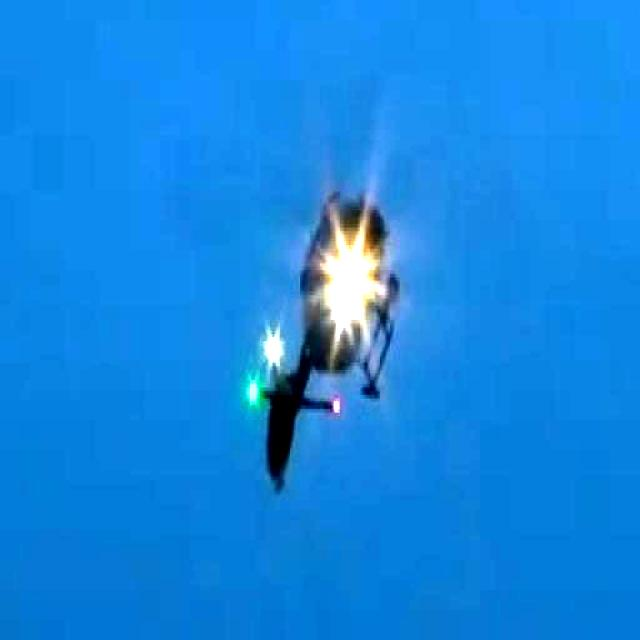drone: (246, 172, 398, 498)
